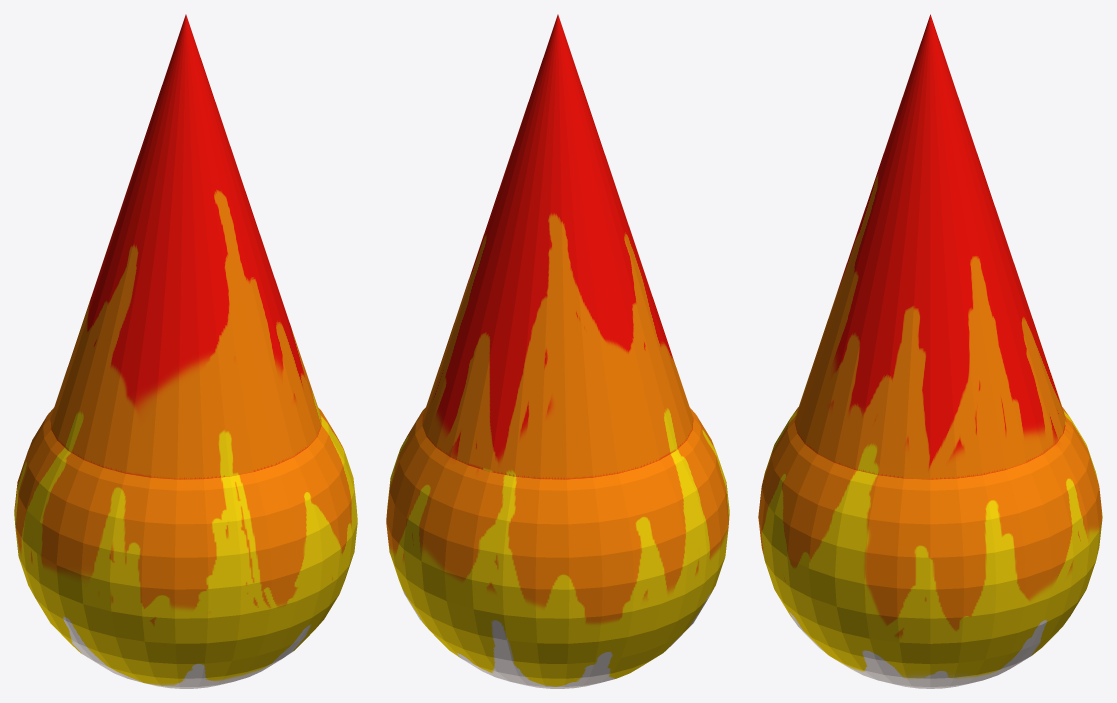
Rendered from Flame.obj.
The picture shows the model from 3 angles, left to right: view 1: azimuth 30°, elevation 25°; view 2: azimuth 150°, elevation 25°; view 3: azimuth 270°, elevation 25°; orthographic projection.
Visible parts, largest first — view 1: 圓錐體; view 2: 圓錐體; view 3: 圓錐體.
Boxes of the visible parts, x1=… form: 圓錐體: x1=14, y1=14, x2=357, y2=688; 圓錐體: x1=386, y1=14, x2=729, y2=688; 圓錐體: x1=758, y1=14, x2=1102, y2=688.
Bounding box in the file's own units: 2 × 4.22 × 2.
1 material, 1 textured.
